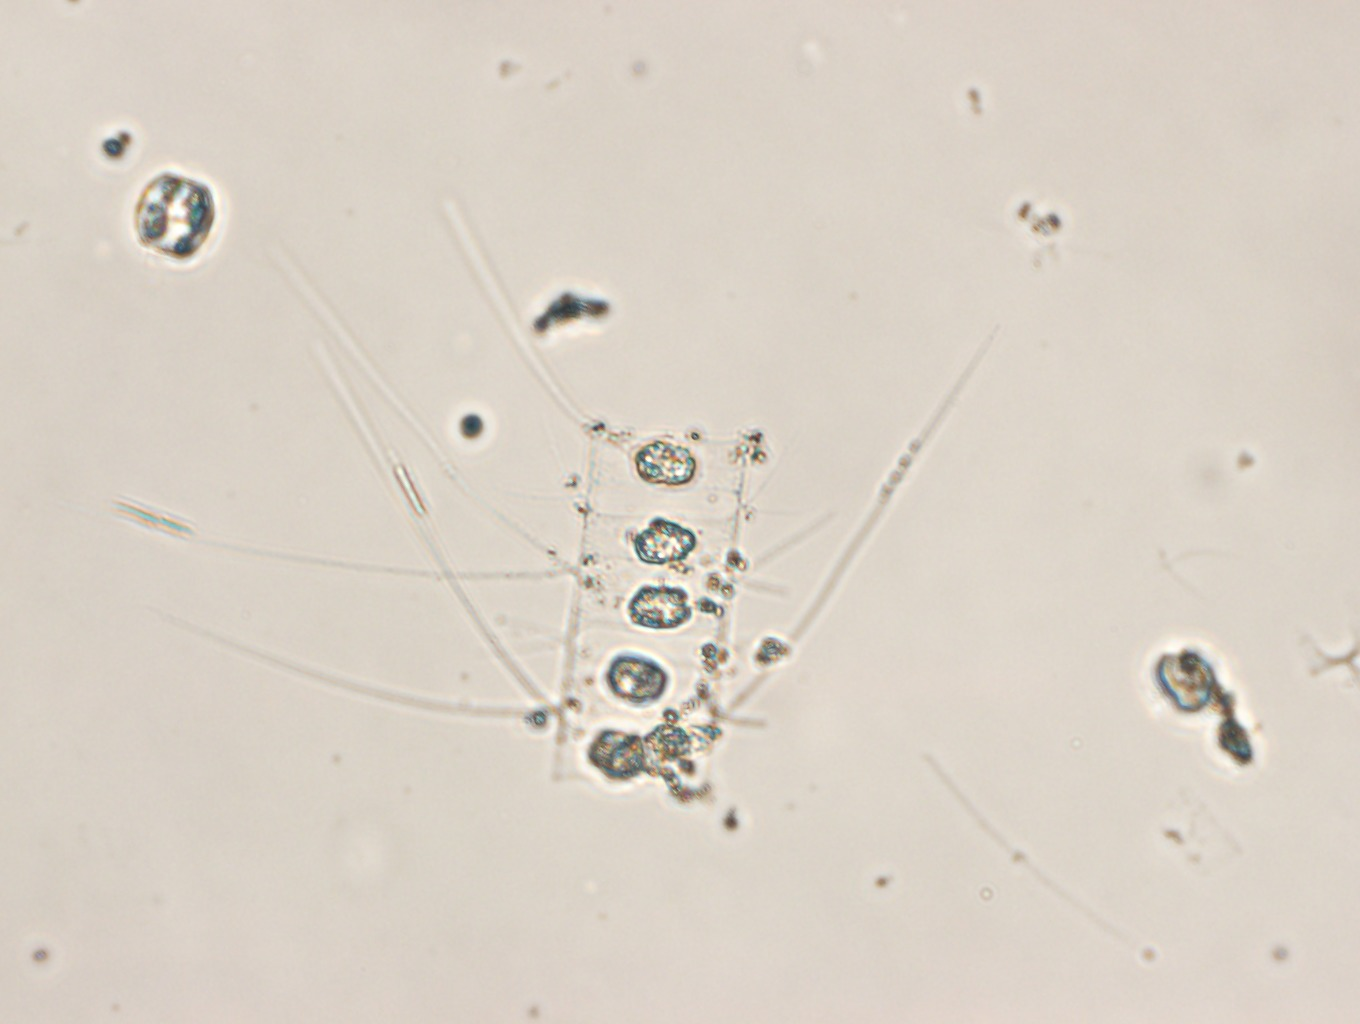chaetoceros: (115, 153, 1011, 805)
